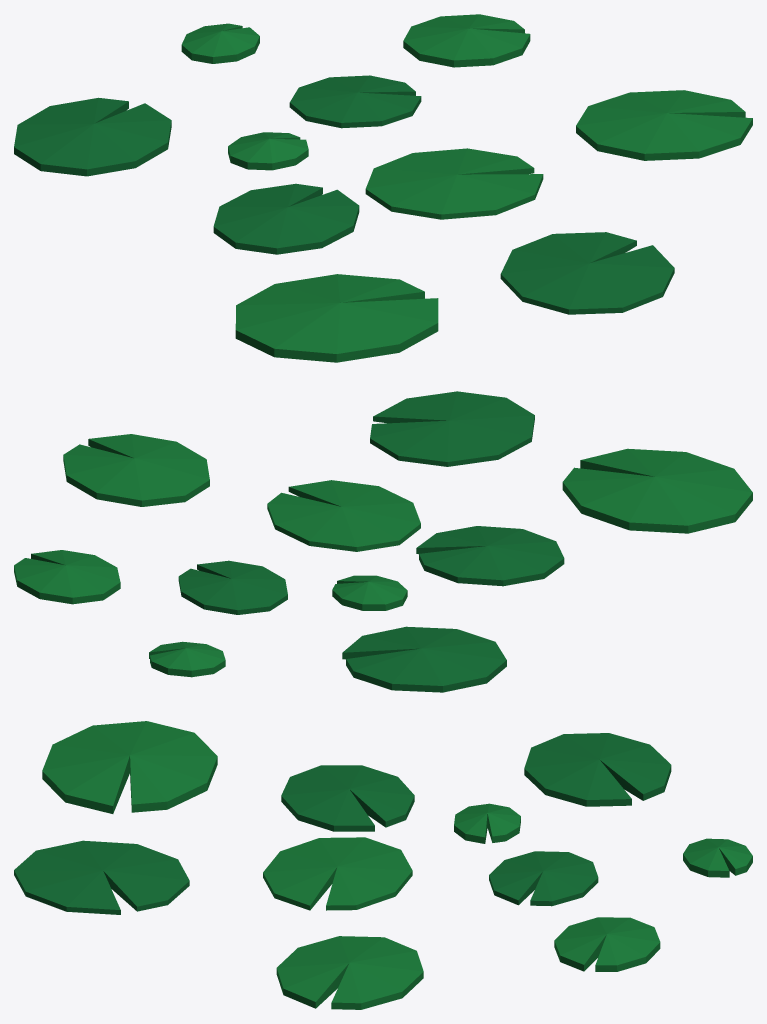
The model's file is lily_pads_wide.glb.
3 renders of one model, top to bottom at view 1: azimuth 30°, elevation 25°; view 2: azimuth 150°, elevation 25°; view 3: azimuth 270°, elevation 25°, orthographic. The views are drawn at different scales.
Visible parts, largest first — view 1: Water Lily Multi_2_C; view 2: Water Lily Multi_2_C; view 3: Water Lily Multi_2_C.
Boxes of the visible parts, x1,y1,x2,y2 form: Water Lily Multi_2_C: (14,14,752,362); Water Lily Multi_2_C: (14,391,752,692); Water Lily Multi_2_C: (14,721,752,1009).
Size of the model in its own units: 1.34 by 0.04 by 1.49.
1 material, 1 textured.
